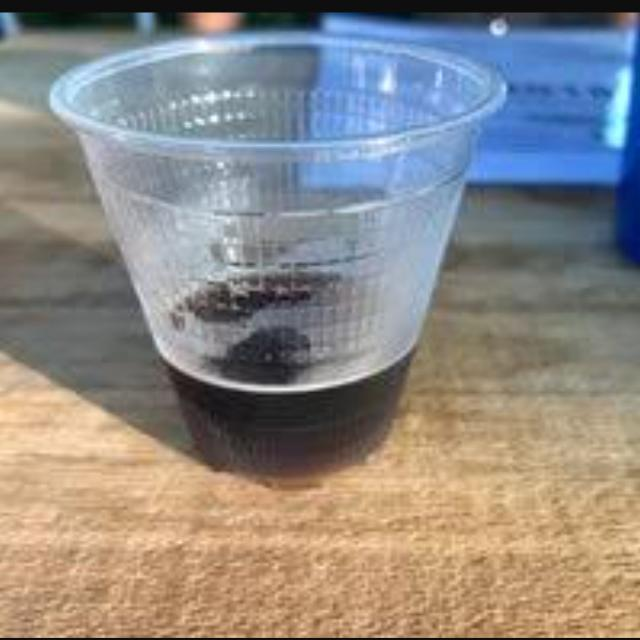GelasPlastik: (46, 27, 509, 479)
